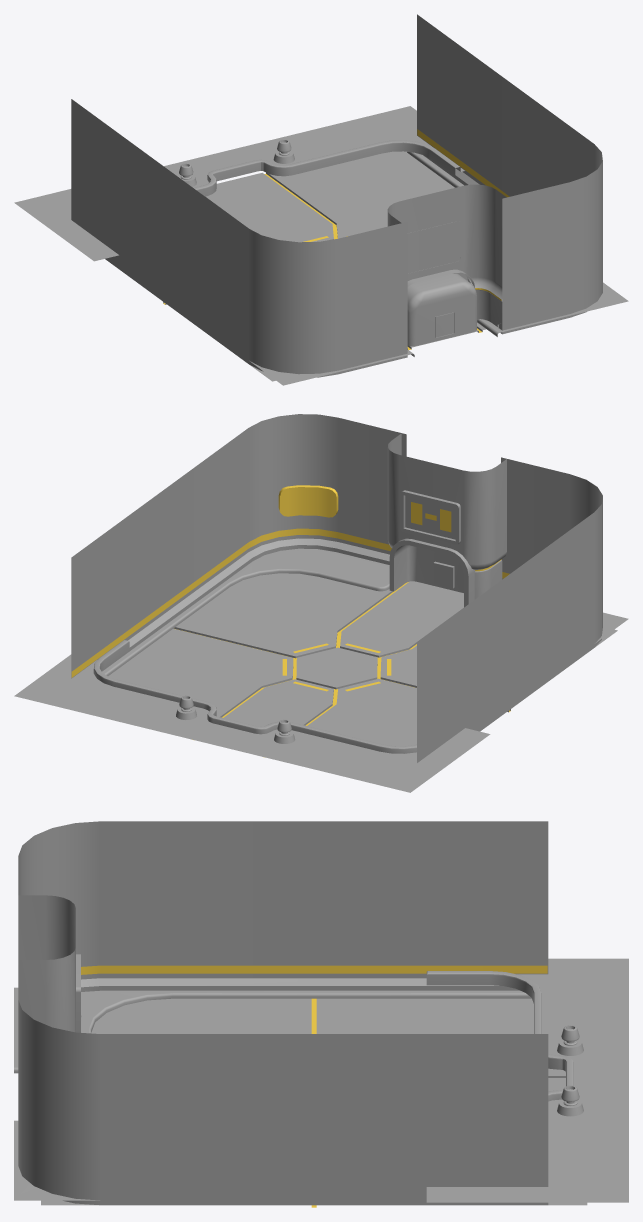
Rendered from DEC_STG02_ENV.fbx.
3 renders of one model, top to bottom at view 1: azimuth 30°, elevation 25°; view 2: azimuth 150°, elevation 25°; view 3: azimuth 270°, elevation 25°, orthographic. The views are drawn at different scales.
Parts seen in each view (by area): view 1: DEC_STG02_ENV01, DEC_STG02_ENV02; view 2: DEC_STG02_ENV01, DEC_STG02_ENV02; view 3: DEC_STG02_ENV01, DEC_STG02_ENV02.
Part boxes in pixels (x1=…): DEC_STG02_ENV01: x1=71, y1=14, x2=628, y2=385; DEC_STG02_ENV02: x1=14, y1=106, x2=464, y2=261; DEC_STG02_ENV01: x1=71, y1=414, x2=628, y2=762; DEC_STG02_ENV02: x1=14, y1=640, x2=490, y2=792; DEC_STG02_ENV01: x1=14, y1=821, x2=587, y2=1207; DEC_STG02_ENV02: x1=426, y1=958, x2=628, y2=1202.
Size of the model in its own units: 110 by 36.5 by 117.
